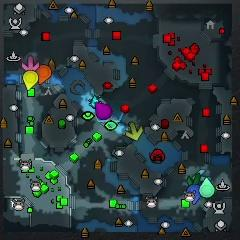p1: (186, 184, 203, 204)
p2: (200, 177, 214, 197)
p3: (95, 102, 112, 120)
p4: (23, 70, 37, 90)
p5: (36, 65, 51, 84)
x1: (22, 56, 39, 72)
x2: (126, 122, 143, 140)
x3: (195, 169, 211, 182)
x4: (186, 173, 202, 186)
